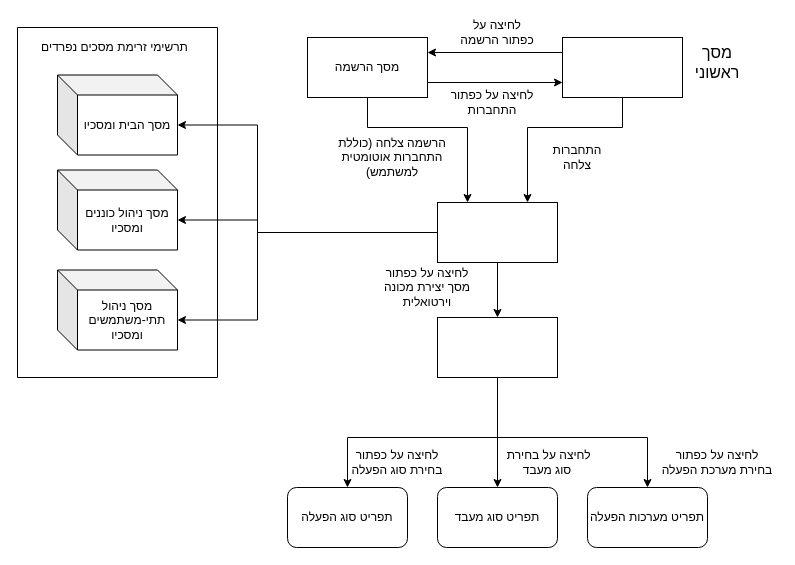
Some shapes in this 795 by 565 pixel diagram are drawn without their labels. Each missing label, with the box of its shape:
מסך התחברות: (562, 36, 682, 98)
מסך יצירת מכונה וירטואלית: (436, 316, 558, 378)
מסך ראשי: (436, 202, 558, 262)
